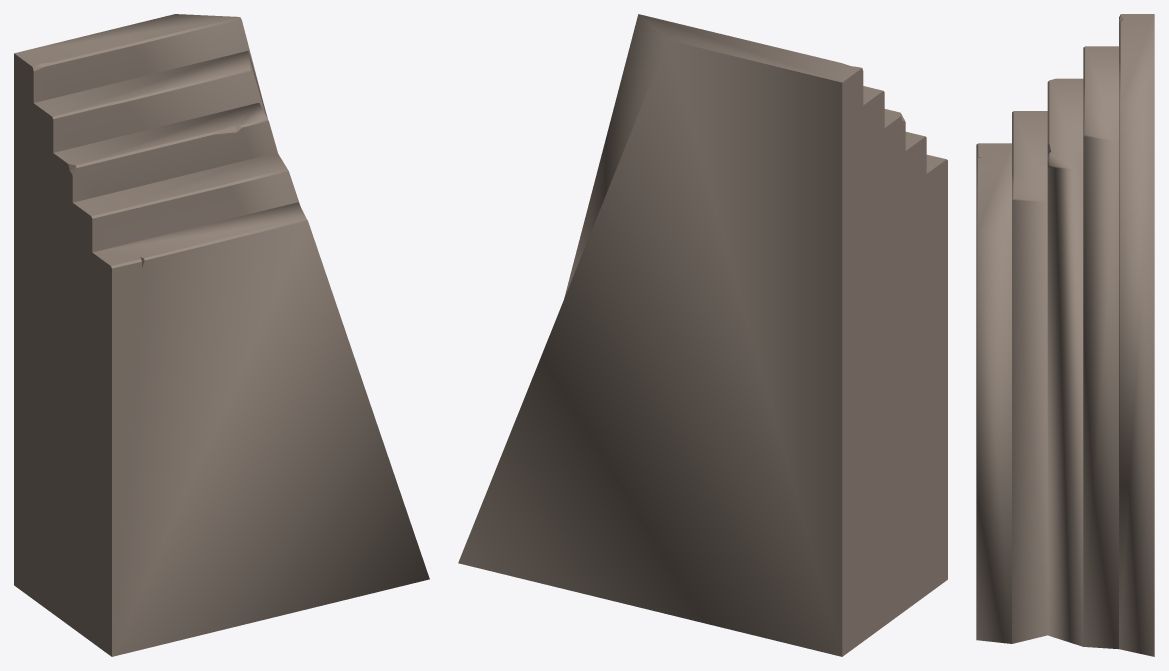
The model's file is Stairs_01_Broken_01.fbx.
3 views of the same model, side by side, from view 1: azimuth 30°, elevation 25°; view 2: azimuth 150°, elevation 25°; view 3: azimuth 270°, elevation 25° (orthographic). The views are drawn at different scales.
Visible parts, largest first — view 1: Cube.002; view 2: Cube.002; view 3: Cube.002.
Boxes of the visible parts, <box> form: Cube.002: <box>14,14,429,656</box>; Cube.002: <box>458,14,947,656</box>; Cube.002: <box>976,14,1154,656</box>.
Size of the model in its own units: 210 by 300 by 100.
